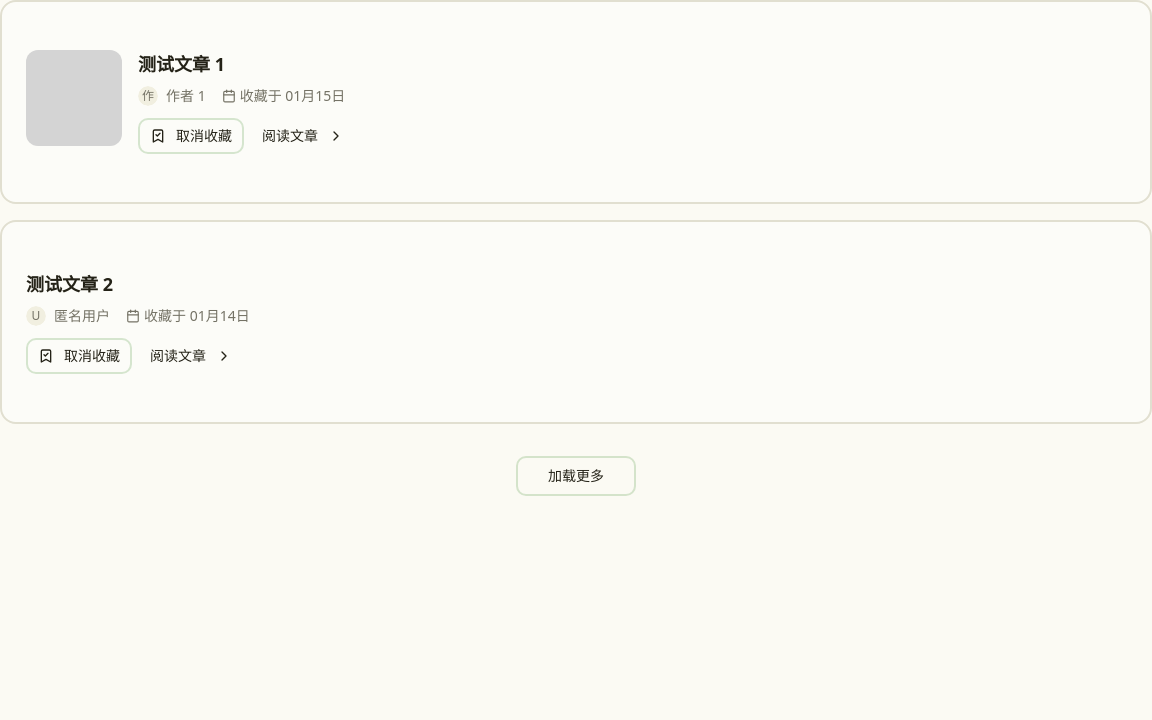
Test case: BookmarkList 组件 › 加载更多功能 › 应该正确加载更多收藏并拼接到列表
Click the button "加载更多".
click(576, 476)  # box left=516, top=456, right=636, bottom=496
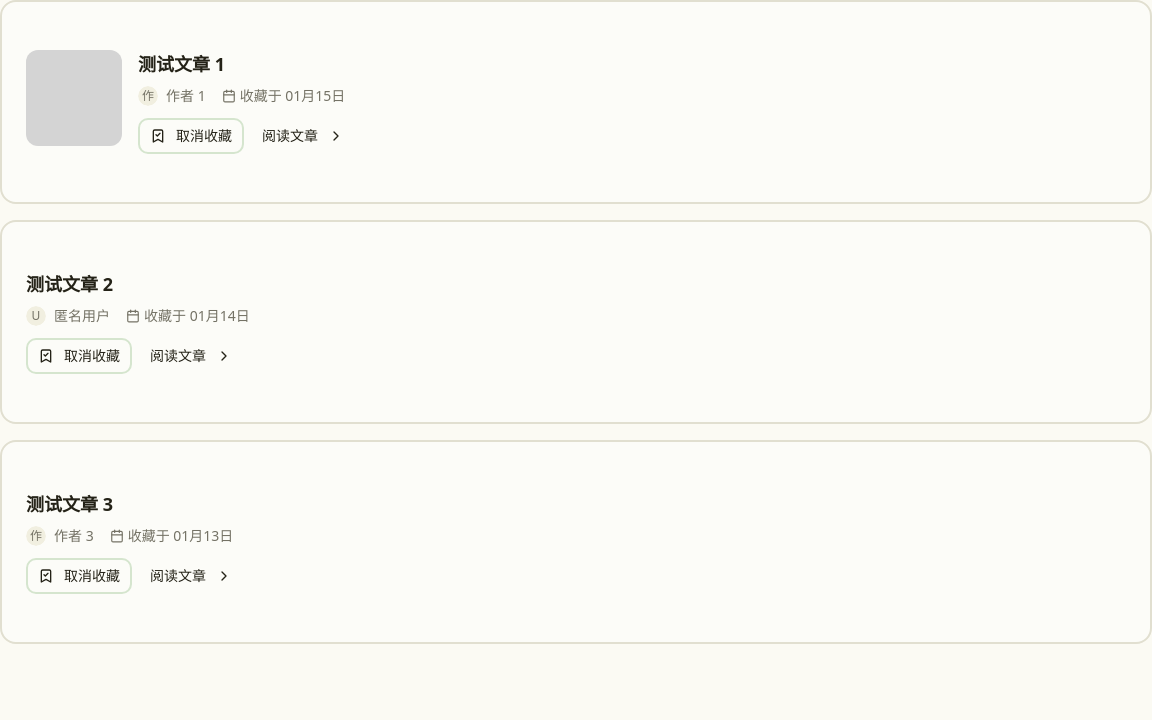
Expected: the link "测试文章 1" is shown, left=138, top=52, right=225, bottom=76
Expected: the link "测试文章 3" is shown, left=26, top=492, right=113, bottom=516
Expected: the button "加载更多" is gone
